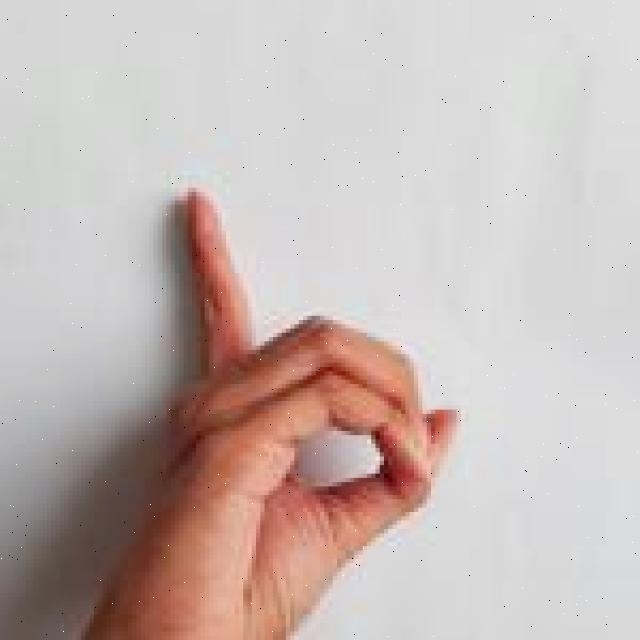D: (82, 184, 464, 640)
